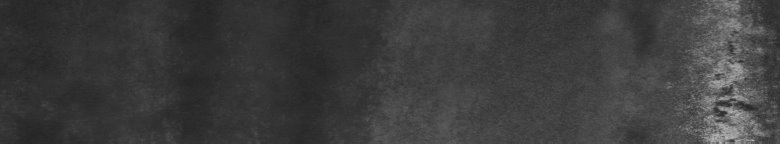kb: (667, 27, 764, 130)
